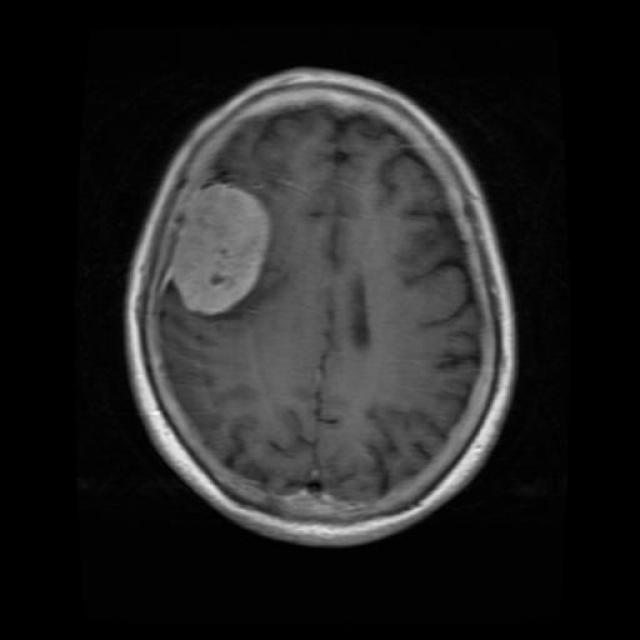Brain-Tumor: (149, 168, 283, 334)
